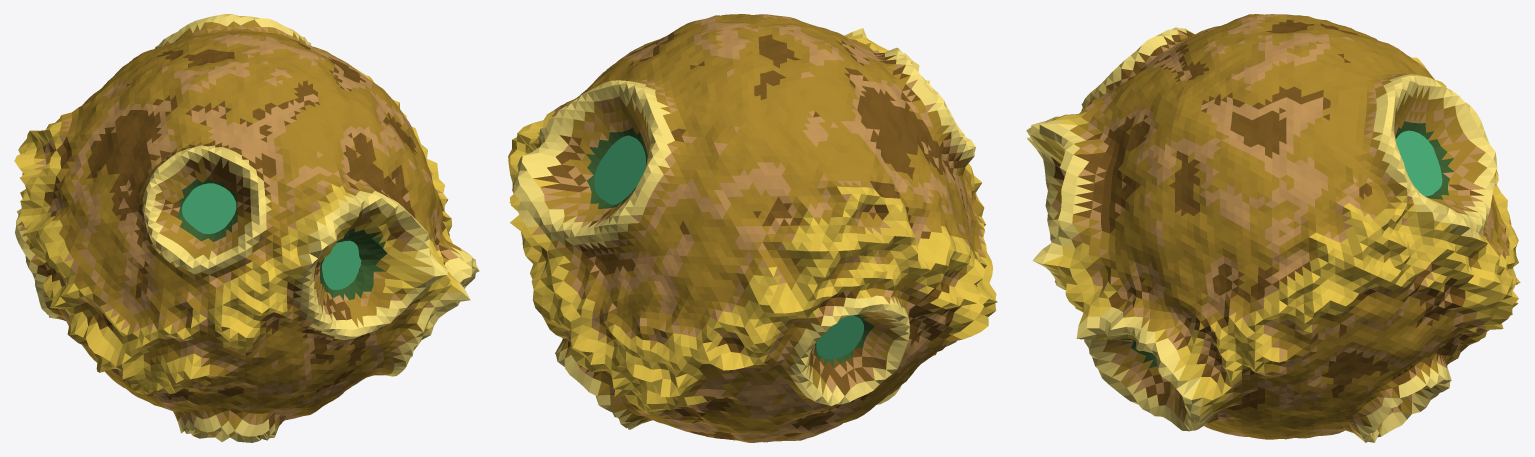
The model's file is azufria.obj.
3 views of the same model, side by side, from view 1: azimuth 30°, elevation 25°; view 2: azimuth 150°, elevation 25°; view 3: azimuth 270°, elevation 25° (orthographic). The views are drawn at different scales.
Visible parts, largest first — view 1: azufria_|_cordilleras_y_crateres, Azufria_|_lago_acido_02, Azufria_|_lago_acido_01; view 2: azufria_|_cordilleras_y_crateres, Azufria_|_lago_acido_05, Azufria_|_lago_acido_06; view 3: azufria_|_cordilleras_y_crateres, Azufria_|_lago_acido_05.
Part boxes in pixels (bbox=[...]): azufria_|_cordilleras_y_crateres: bbox=[14, 14, 479, 442]; Azufria_|_lago_acido_02: bbox=[182, 183, 236, 234]; Azufria_|_lago_acido_01: bbox=[322, 240, 361, 289]; azufria_|_cordilleras_y_crateres: bbox=[508, 14, 997, 442]; Azufria_|_lago_acido_05: bbox=[594, 135, 645, 204]; Azufria_|_lago_acido_06: bbox=[816, 315, 863, 359]; azufria_|_cordilleras_y_crateres: bbox=[1026, 14, 1520, 442]; Azufria_|_lago_acido_05: bbox=[1395, 130, 1442, 196].
Size of the model in its own units: 2.33 by 2.04 by 2.34.
